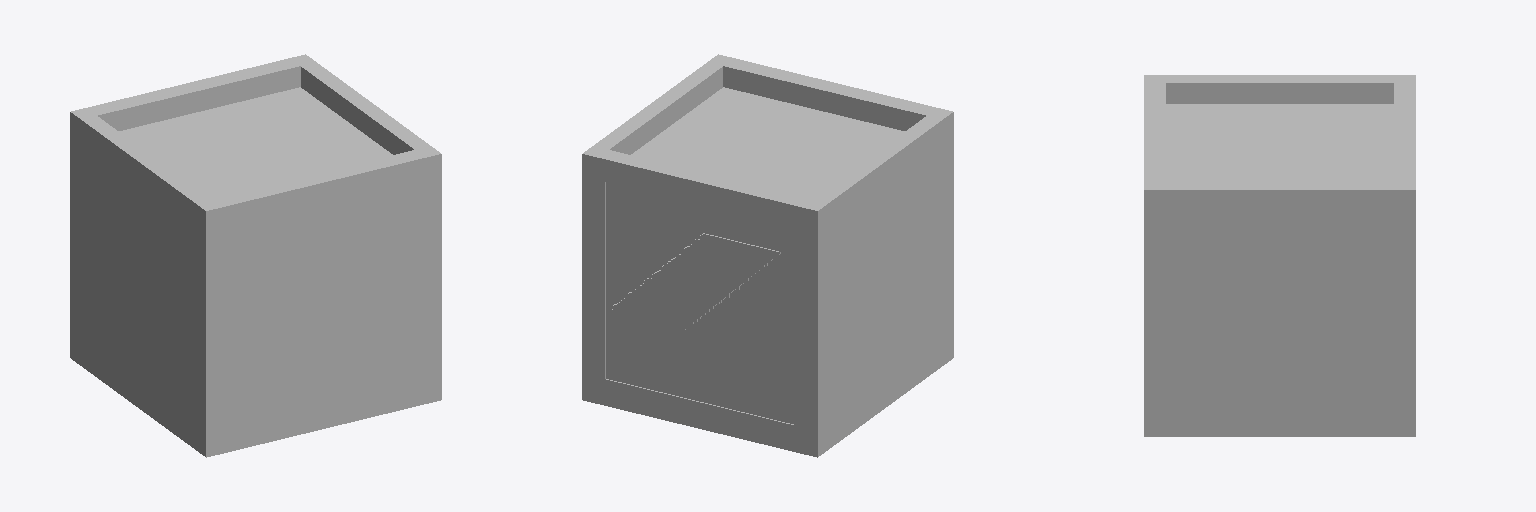
File: AlmacenSalmon.obj
3 renders of one model, left to right at view 1: azimuth 30°, elevation 25°; view 2: azimuth 150°, elevation 25°; view 3: azimuth 270°, elevation 25°, orthographic.
Visible parts, largest first — view 1: object 1; view 2: object 1; view 3: object 1.
Boxes of the visible parts, x1,y1,x2,y2 form: object 1: [70, 54, 441, 457]; object 1: [582, 54, 953, 457]; object 1: [1144, 75, 1415, 436].
Bounding box in the file's own units: 17.6 × 17.6 × 17.6.